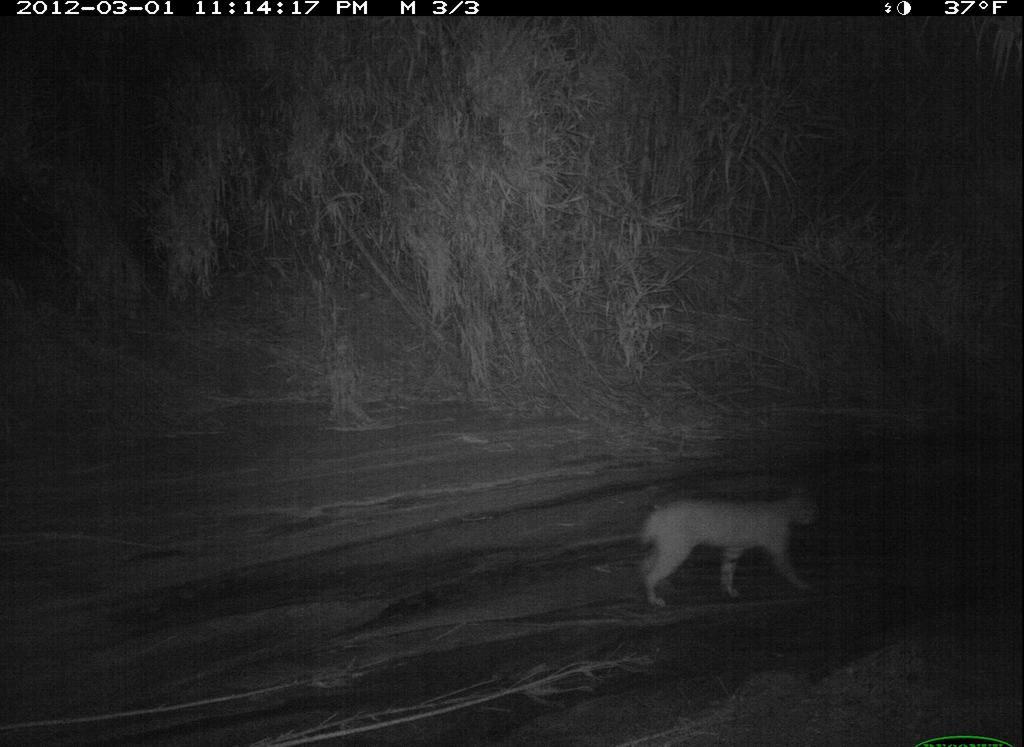bobcat: (628, 475, 827, 614)
